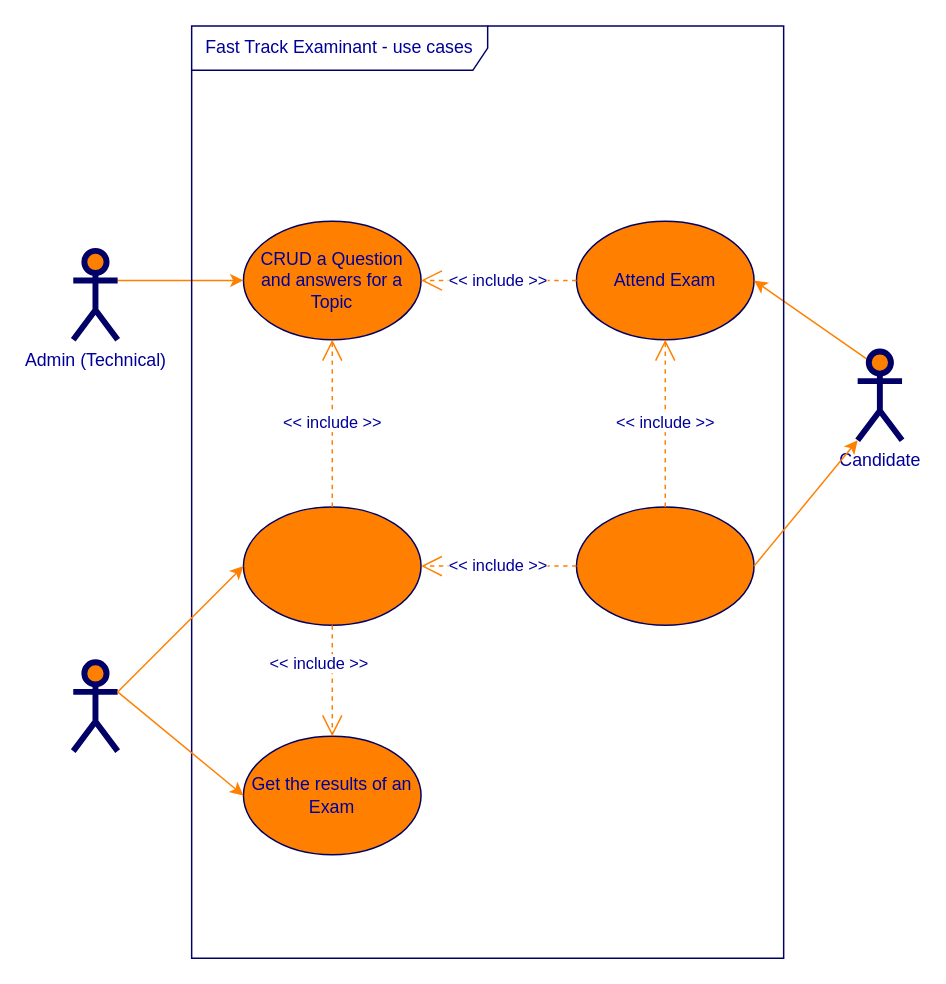
This 946x984 diagram has some shape labels left out. The shapes that lost their labels are listed below. From the top down, each one's box as (x1, y1, x2, y2) in pixels, then its label:
(242, 505, 421, 625): Schedule an Exam with many topics
(575, 505, 754, 625): Receive Exam Invitation
(70, 659, 120, 753): Admin (HR)
